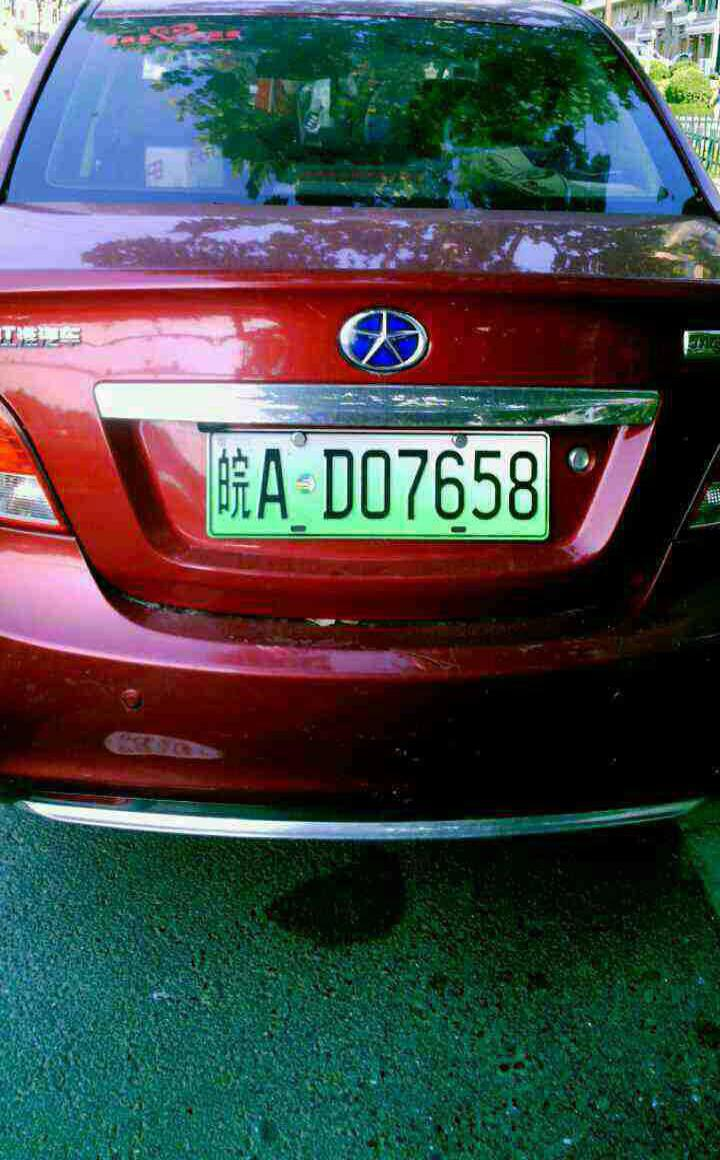car_id: (207, 434, 549, 537)
